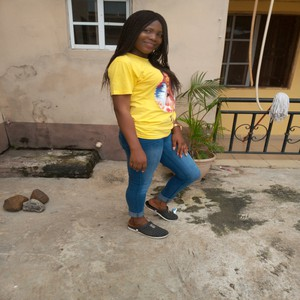Fulokoja_female_student: (111, 12, 194, 235)
